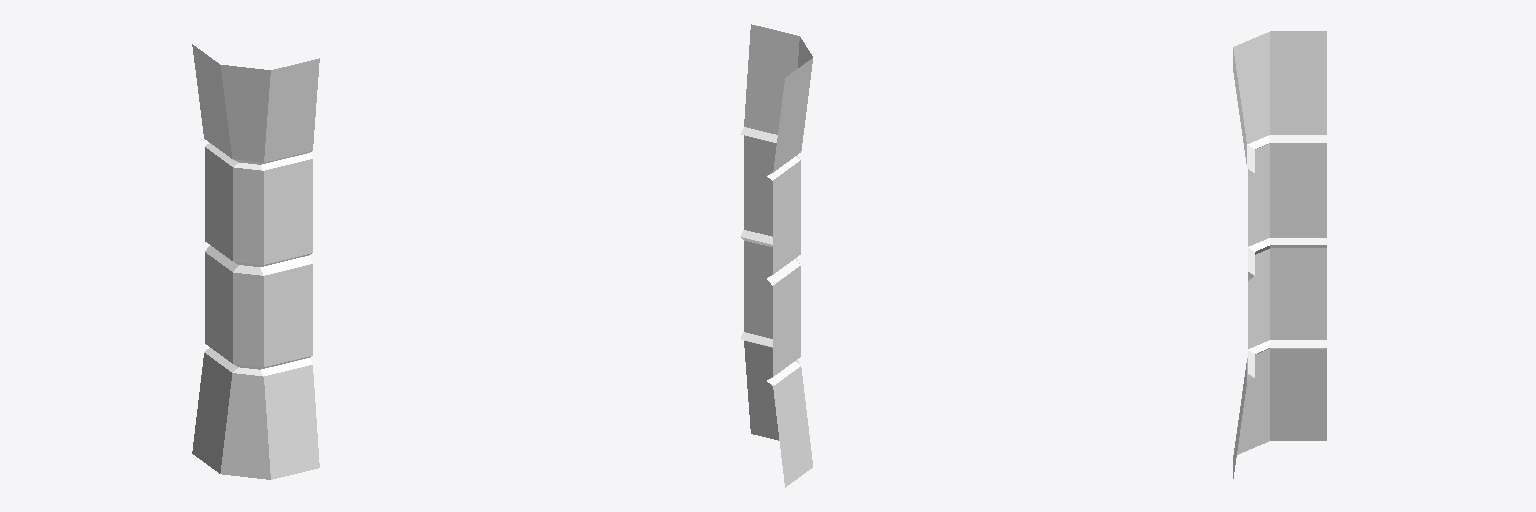
The model's file is Wall_Corner_Outer.obj.
3 views of the same model, side by side, from view 1: azimuth 30°, elevation 25°; view 2: azimuth 150°, elevation 25°; view 3: azimuth 270°, elevation 25° (orthographic).
Visible parts, largest first — view 1: Cube.006_Cube.013; view 2: Cube.006_Cube.013; view 3: Cube.006_Cube.013.
Boxes of the visible parts, <box> form: Cube.006_Cube.013: <box>192,44,319,479</box>; Cube.006_Cube.013: <box>740,24,812,487</box>; Cube.006_Cube.013: <box>1233,31,1326,478</box>.
Size of the model in its own units: 0.8273 by 4 by 0.8273.